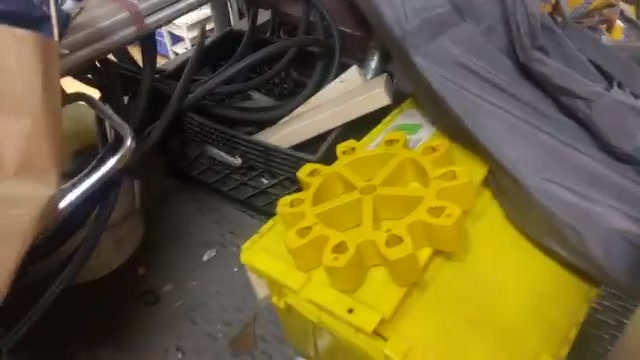gear: (277, 128, 475, 299)
